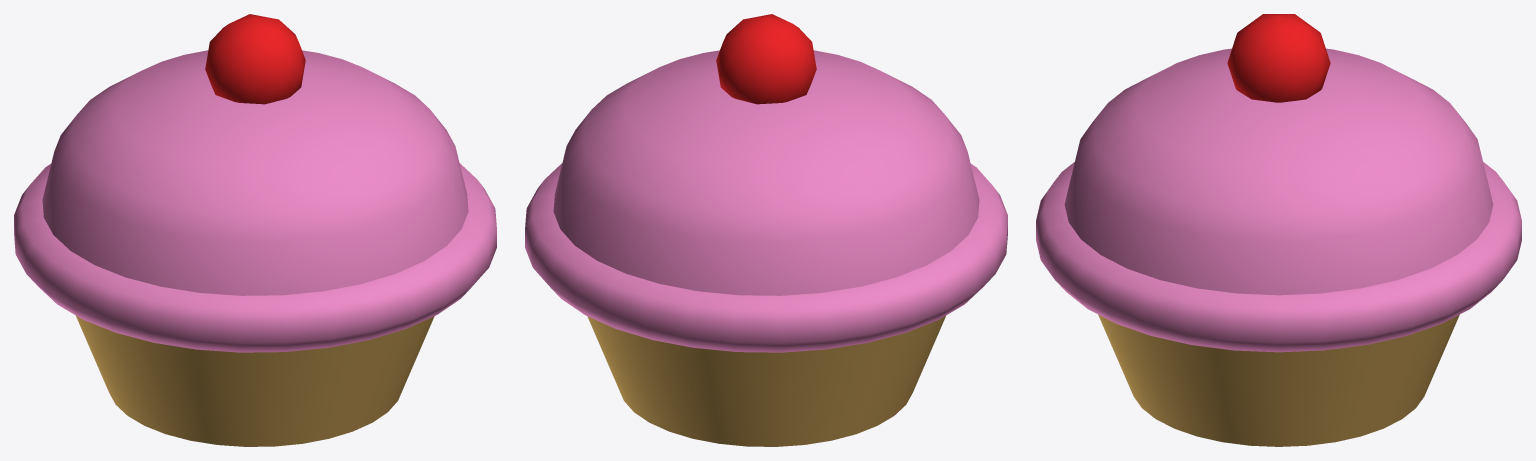
File: cupcake.fbx
The picture shows the model from 3 angles, left to right: view 1: azimuth 30°, elevation 25°; view 2: azimuth 150°, elevation 25°; view 3: azimuth 270°, elevation 25°; orthographic projection.
Visible parts, largest first — view 1: Cupcake; view 2: Cupcake; view 3: Cupcake.
Part boxes in pixels (x1=…): Cupcake: x1=14, y1=14, x2=496, y2=446; Cupcake: x1=525, y1=14, x2=1007, y2=446; Cupcake: x1=1036, y1=14, x2=1521, y2=446.
Bounding box in the file's own units: 16.97 × 16.97 × 14.18.
